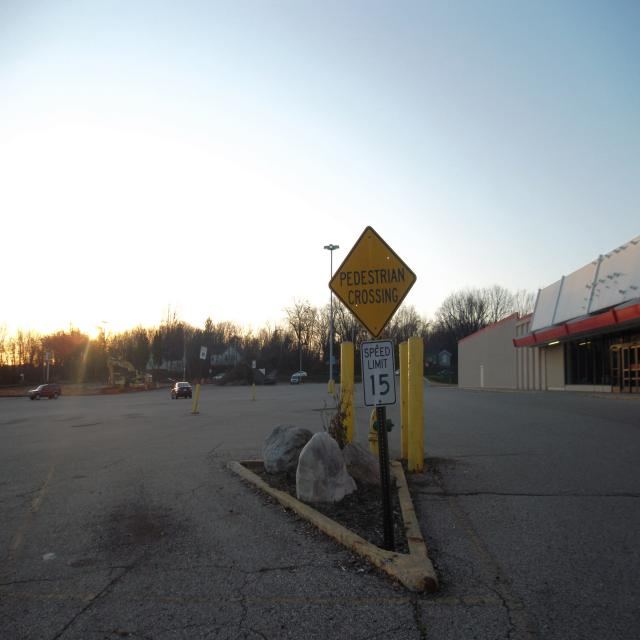regulatory: (361, 342, 396, 406)
warning: (328, 214, 420, 340)
